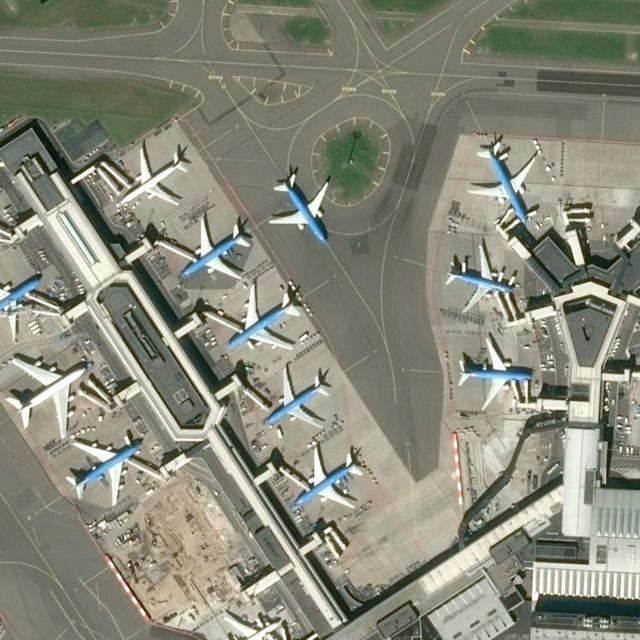Aircraft: (2, 351, 94, 437), (468, 133, 542, 223), (452, 337, 542, 411), (440, 237, 523, 311), (290, 439, 374, 511), (67, 432, 147, 506), (226, 282, 308, 352), (267, 168, 339, 246), (178, 210, 257, 280), (115, 139, 196, 207), (263, 364, 337, 430), (1, 269, 49, 341)
